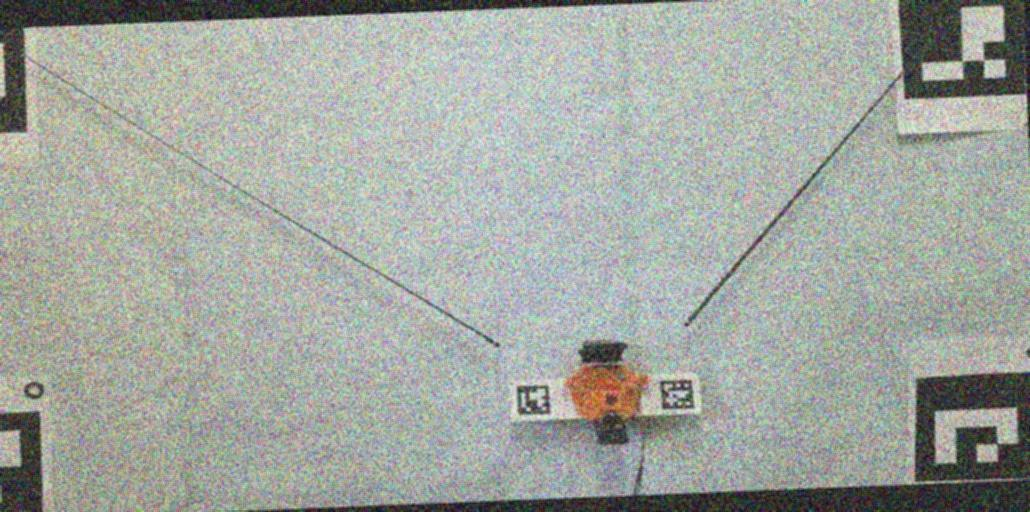robot: (562, 340, 649, 445)
